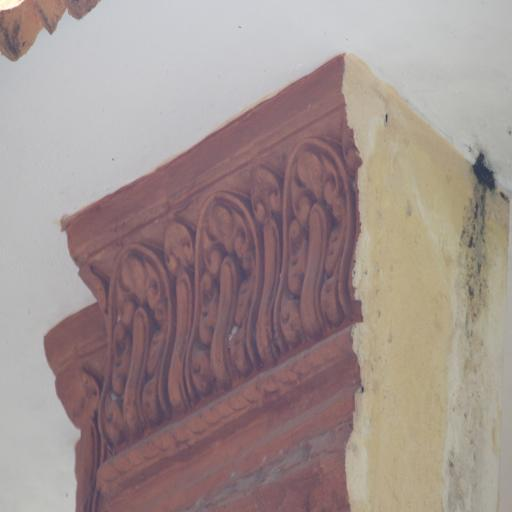la: (279, 138, 354, 339), (193, 189, 265, 386), (102, 241, 170, 435)
